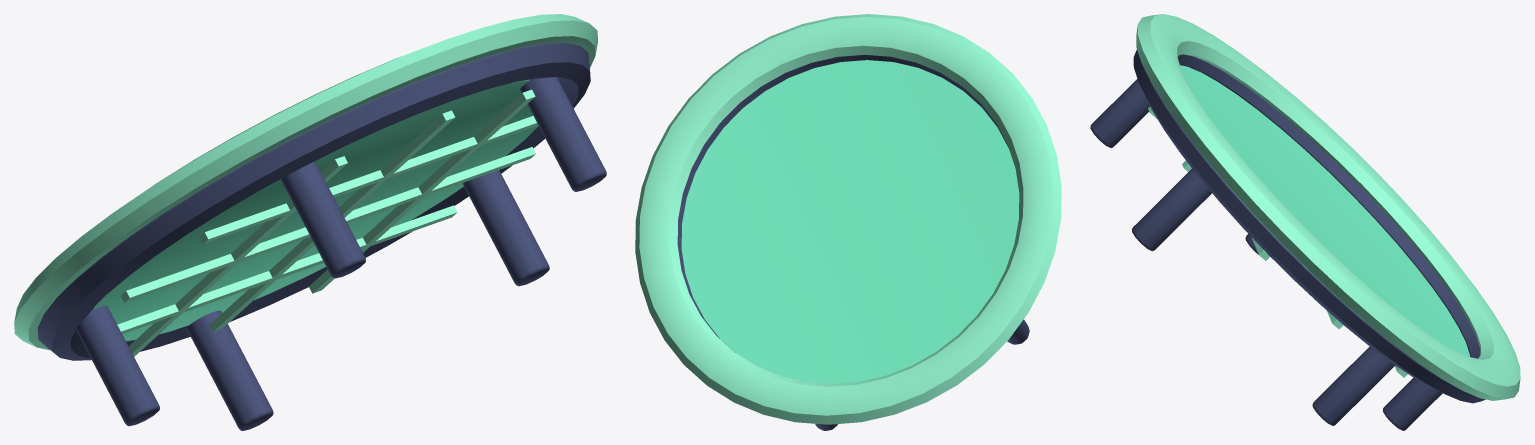
File: SafetyNet.fbx
3 renders of one model, left to right at view 1: azimuth 30°, elevation 25°; view 2: azimuth 150°, elevation 25°; view 3: azimuth 270°, elevation 25°, orthographic. The views are drawn at different scales.
Visible parts, largest first — view 1: SafetyNet_Trim, SafetyNet_Neon, SafetyNet_Body; view 2: SafetyNet_Body, SafetyNet_Neon, SafetyNet_Trim; view 3: SafetyNet_Neon, SafetyNet_Trim, SafetyNet_Body.
Part boxes in pixels (box(x1,y1,x2,y2)): SafetyNet_Trim: box(37, 42, 606, 430); SafetyNet_Neon: box(14, 14, 597, 356); SafetyNet_Body: box(93, 79, 538, 341); SafetyNet_Body: box(681, 60, 1019, 383); SafetyNet_Neon: box(635, 14, 1061, 424); SafetyNet_Trim: box(677, 55, 1029, 430); SafetyNet_Neon: box(1136, 14, 1520, 400); SafetyNet_Trim: box(1090, 49, 1485, 430); SafetyNet_Body: box(1180, 65, 1469, 356).
Size of the model in its own units: 3 by 2.5 by 2.44.
